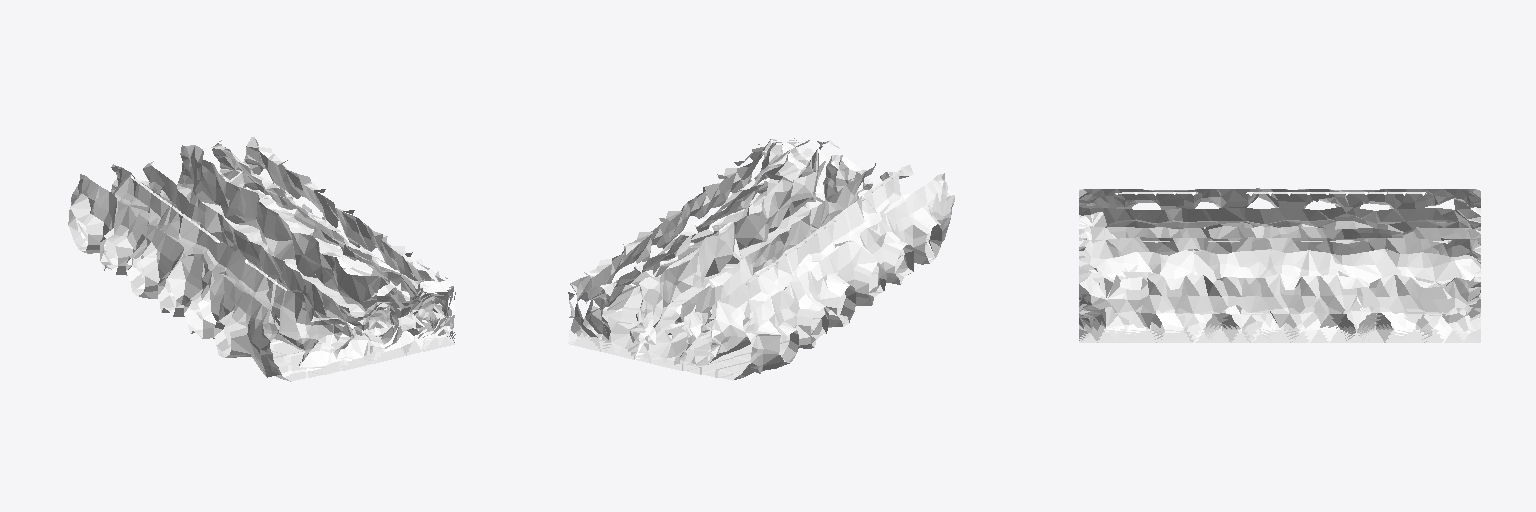
Rendered from bioclima.obj.
3 views of the same model, side by side, from view 1: azimuth 30°, elevation 25°; view 2: azimuth 150°, elevation 25°; view 3: azimuth 270°, elevation 25° (orthographic).
Visible parts, largest first — view 1: Shape_IndexedFaceSet_Shape_IndexedFaceSet.001; view 2: Shape_IndexedFaceSet_Shape_IndexedFaceSet.001; view 3: Shape_IndexedFaceSet_Shape_IndexedFaceSet.001.
Part boxes in pixels (x1,y1,x2,y2): Shape_IndexedFaceSet_Shape_IndexedFaceSet.001: (68, 137, 455, 381); Shape_IndexedFaceSet_Shape_IndexedFaceSet.001: (568, 138, 954, 380); Shape_IndexedFaceSet_Shape_IndexedFaceSet.001: (1079, 188, 1480, 342).
Size of the model in its own units: 12 by 4.48 by 21.